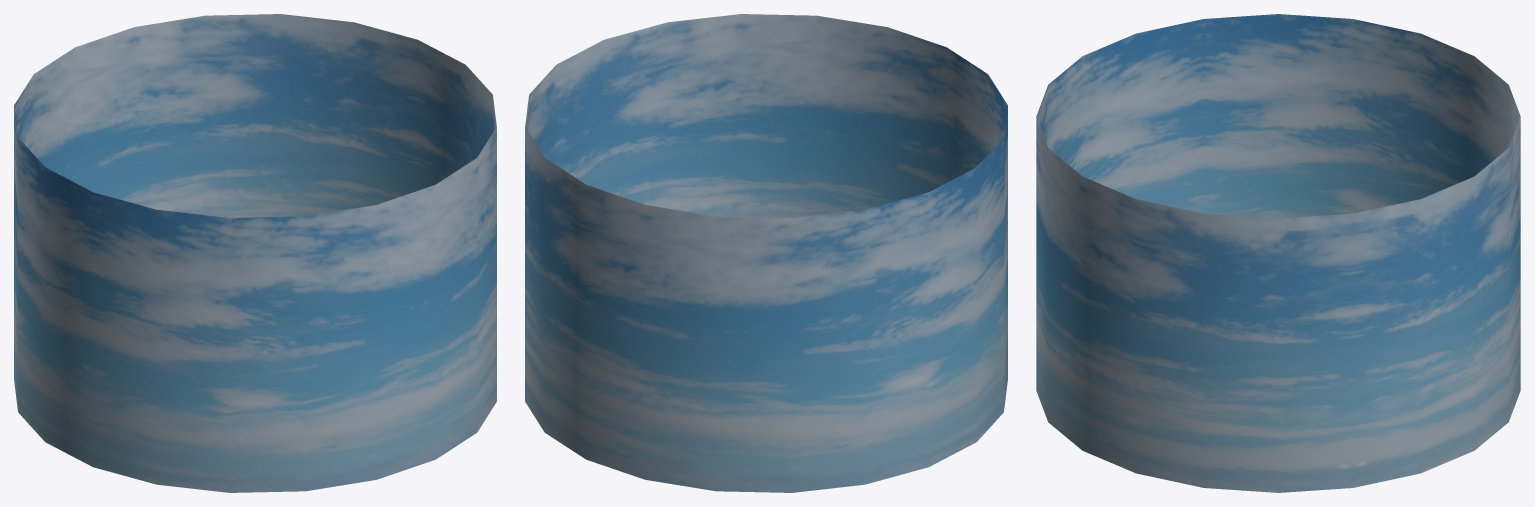
The model's file is sky.fbx.
The picture shows the model from 3 angles, left to right: view 1: azimuth 30°, elevation 25°; view 2: azimuth 150°, elevation 25°; view 3: azimuth 270°, elevation 25°; orthographic projection.
Visible parts, largest first — view 1: pCylinder3; view 2: pCylinder3; view 3: pCylinder3.
Boxes of the visible parts, bbox=[...] form: pCylinder3: bbox=[14, 14, 496, 492]; pCylinder3: bbox=[525, 14, 1007, 492]; pCylinder3: bbox=[1036, 14, 1520, 492].
Size of the model in its own units: 20000 by 12500 by 20000.
